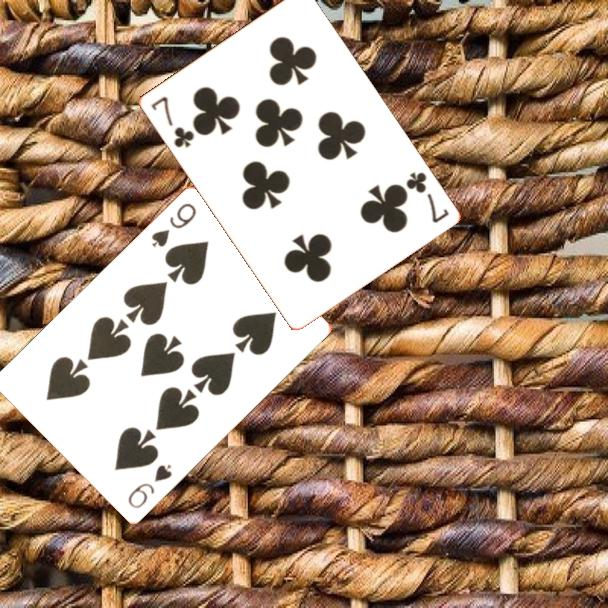c07: (147, 93, 197, 151), (402, 168, 451, 226)
s09: (124, 461, 175, 512), (148, 200, 199, 251)
